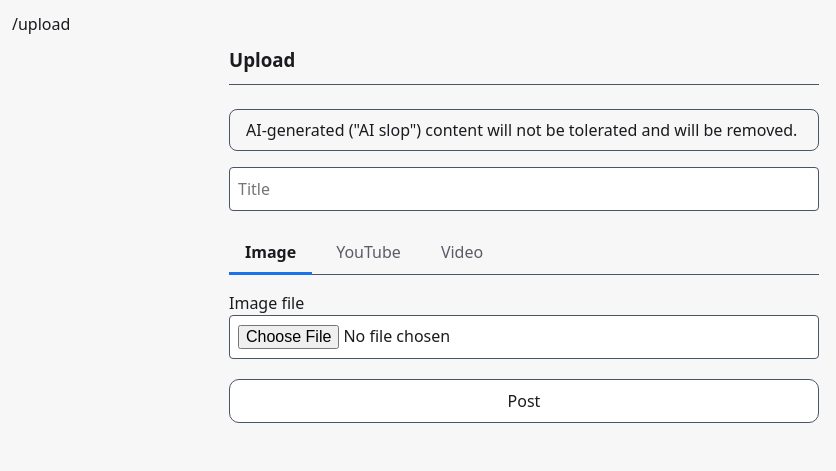
Test: UploadPage › blocks an image submission without a chosen file
The width and height of the screenshot is (836, 471).
# A title is present so the only outstanding rule is the missing file.
Step 1. Type "My meme" into the field labelled "Title" → (524,189), box [229,167,819,211]
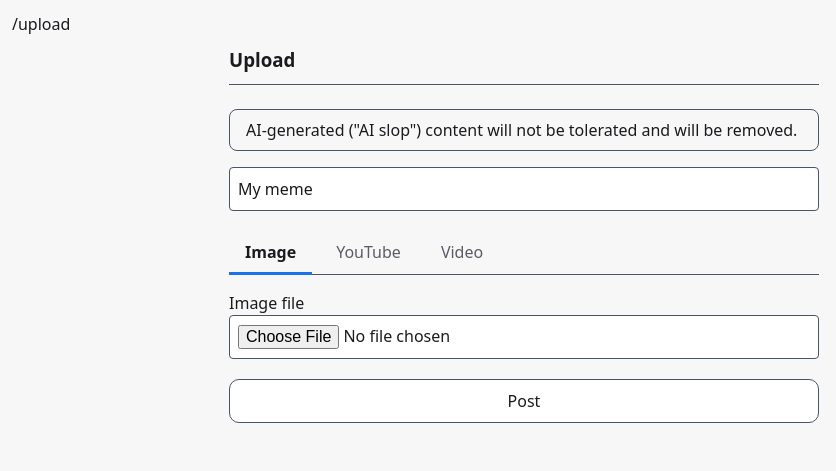
Step 2. Click the button "Post" → (524,401), box [229,379,819,423]
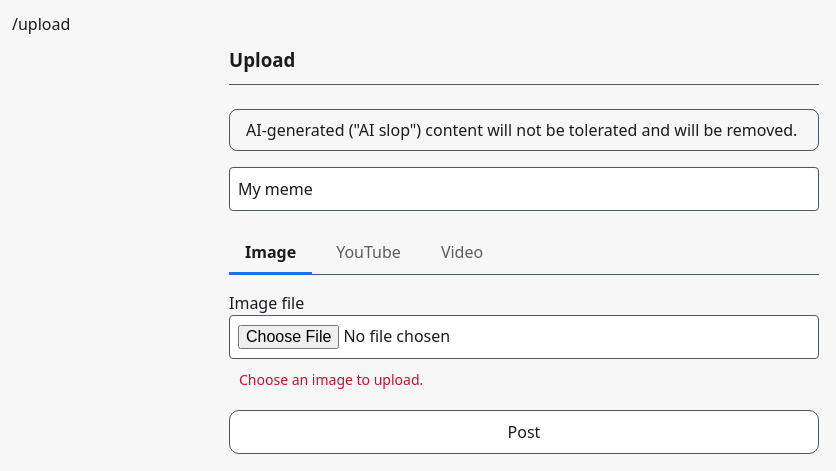
Now the message shows "Choose an image", box [239,370,423,389]
